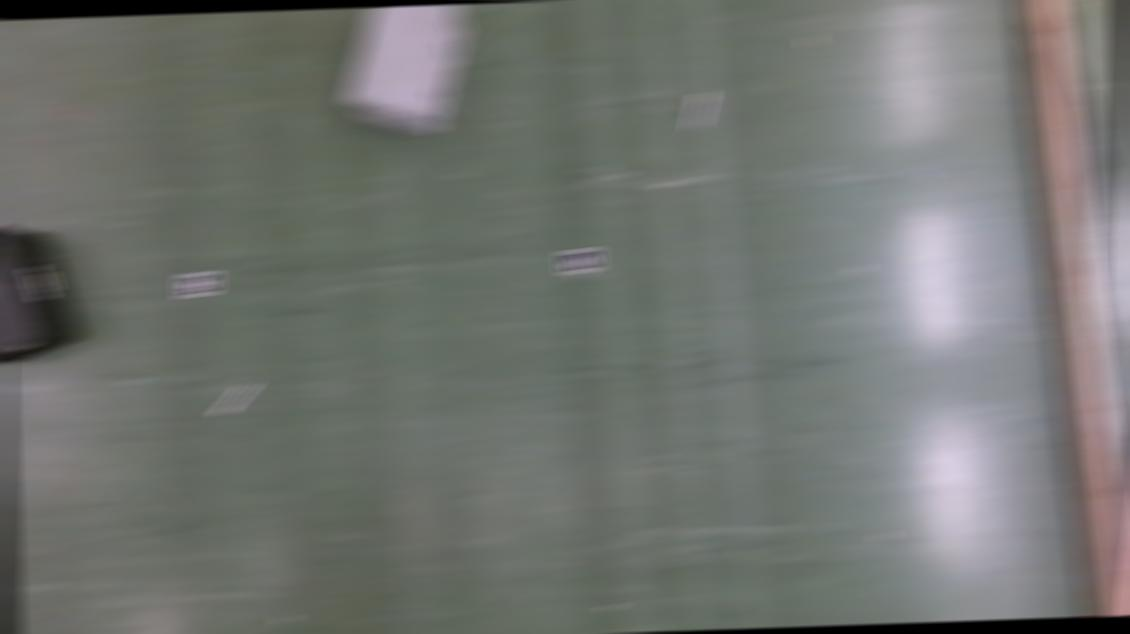probes: (217, 384, 254, 415), (688, 92, 711, 132)
rako: (341, 4, 471, 139), (0, 223, 83, 365)
